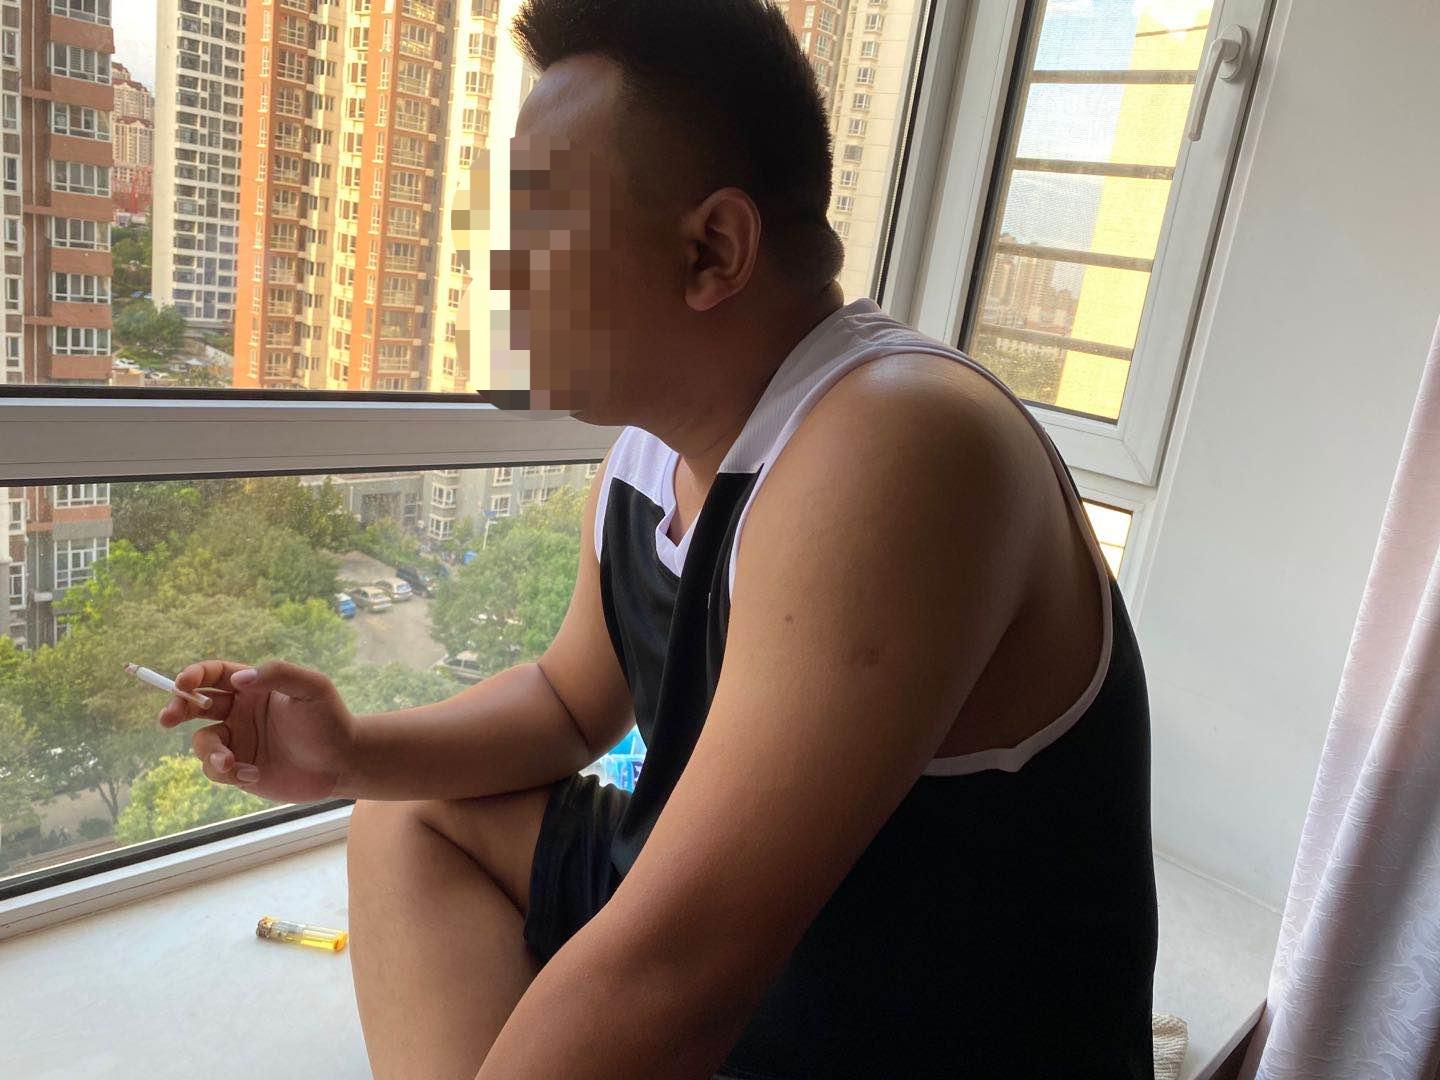smoke: (118, 660, 215, 716)
